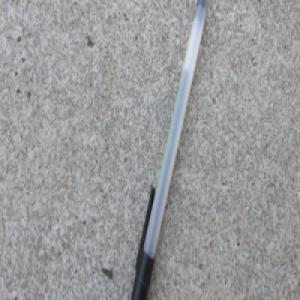Pen: (129, 0, 210, 300)
